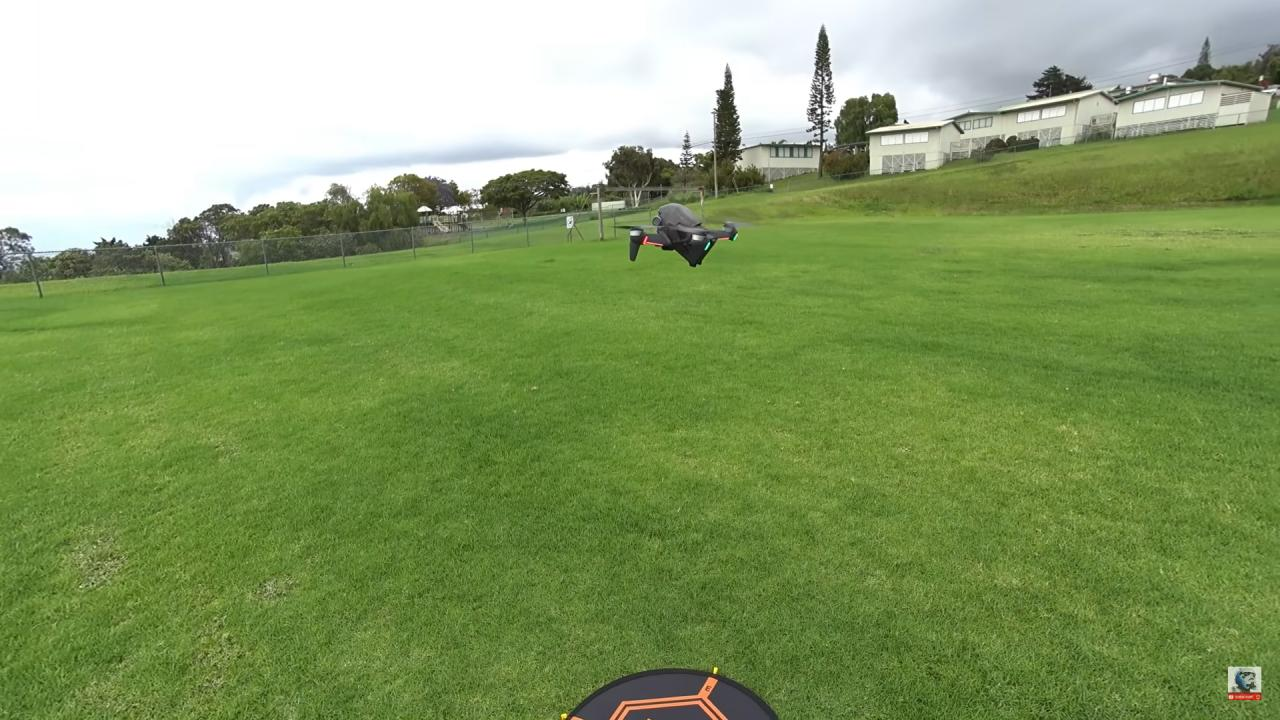Drone: (598, 192, 759, 289)
